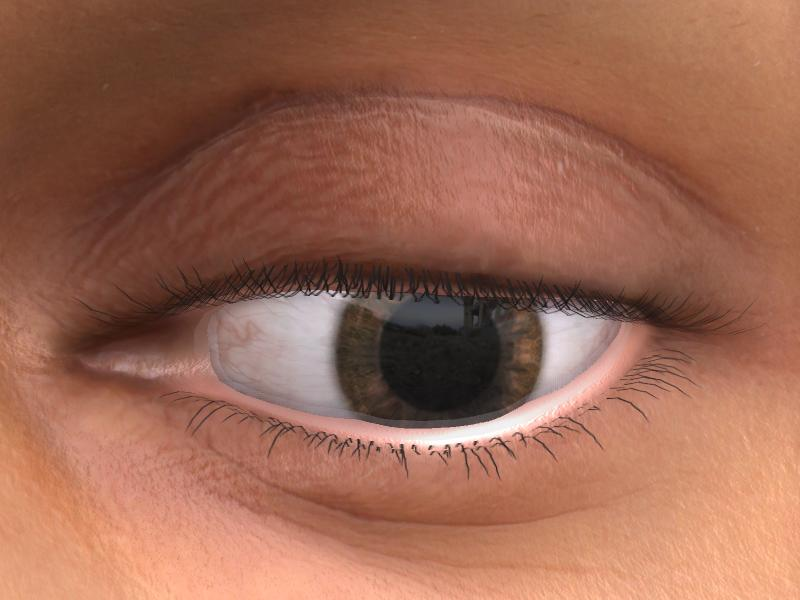eye: (340, 287, 541, 424)
